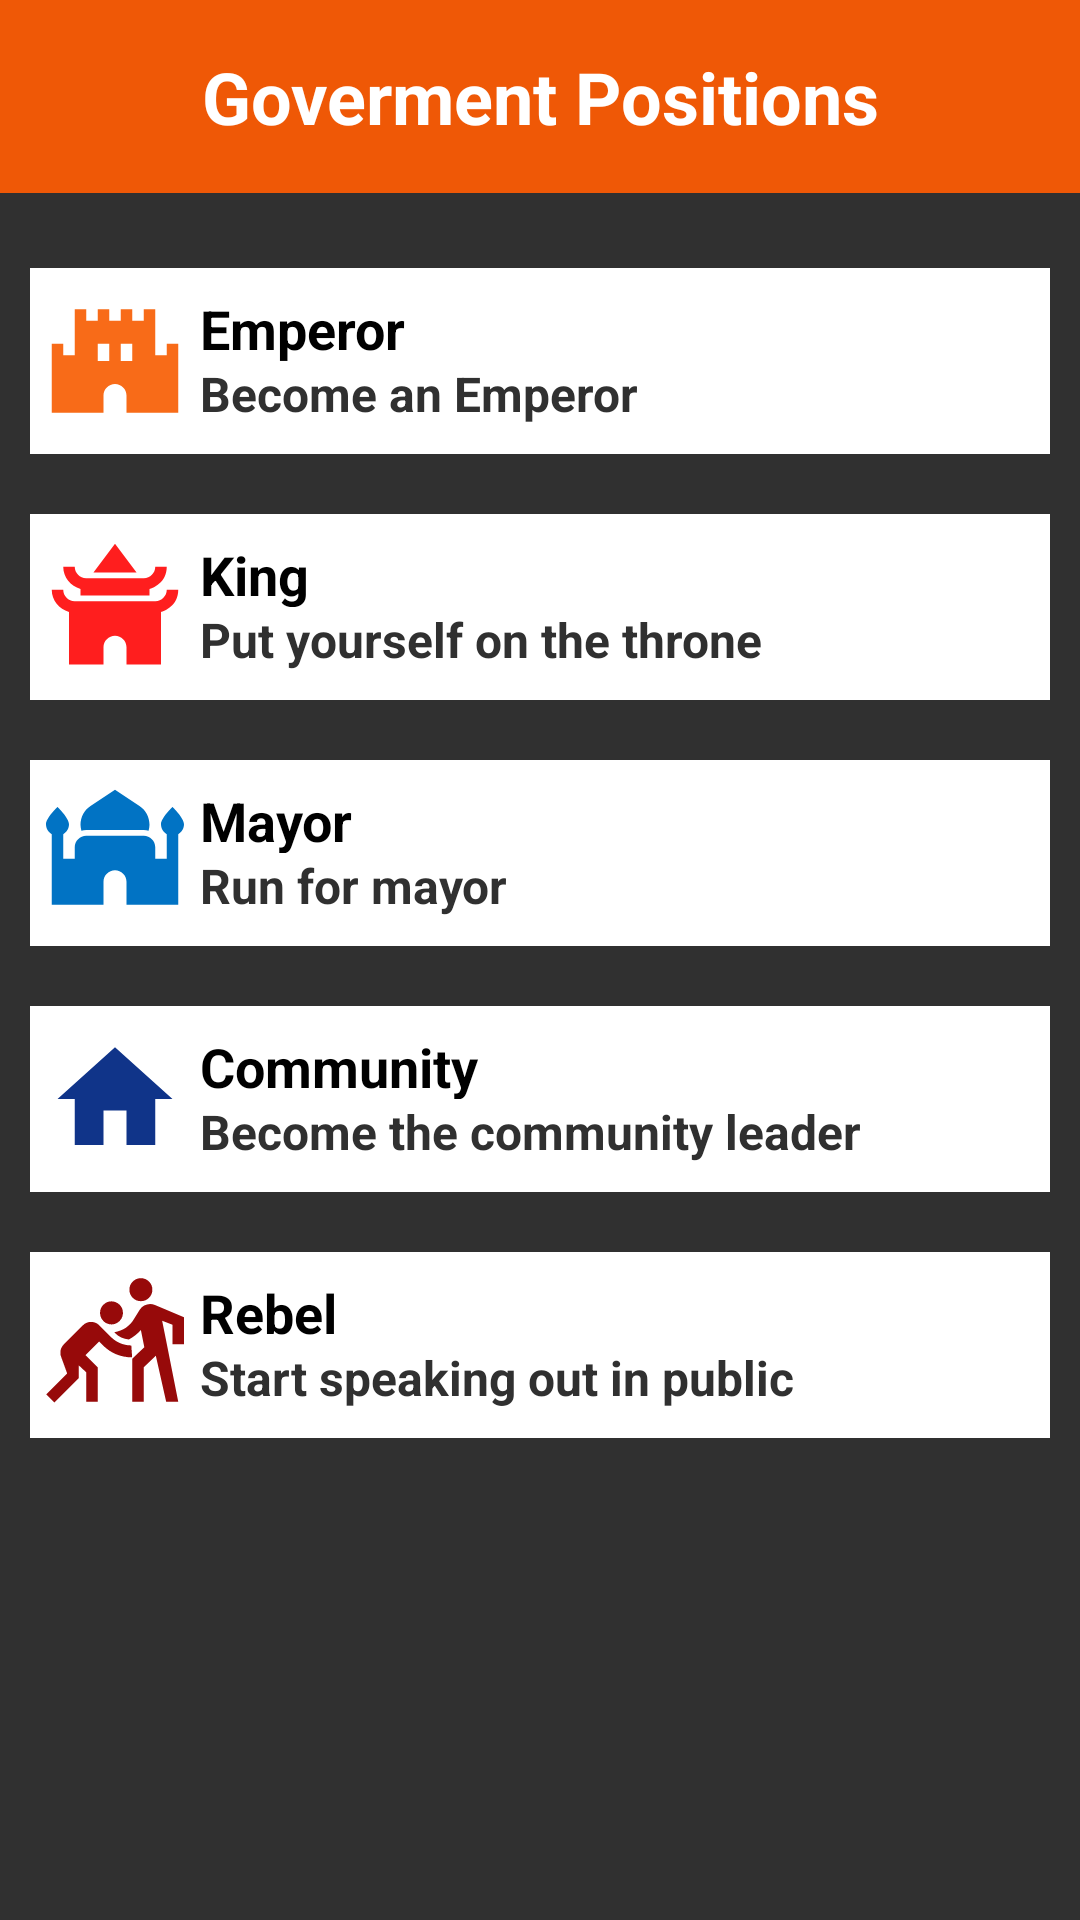

Screen size 1080 × 1920. Icon name, then its box in pixels as BBox(x1, y1, x2, y2):
crime: BBox(46, 1278, 184, 1403)
home cheap: BBox(58, 1047, 172, 1145)
